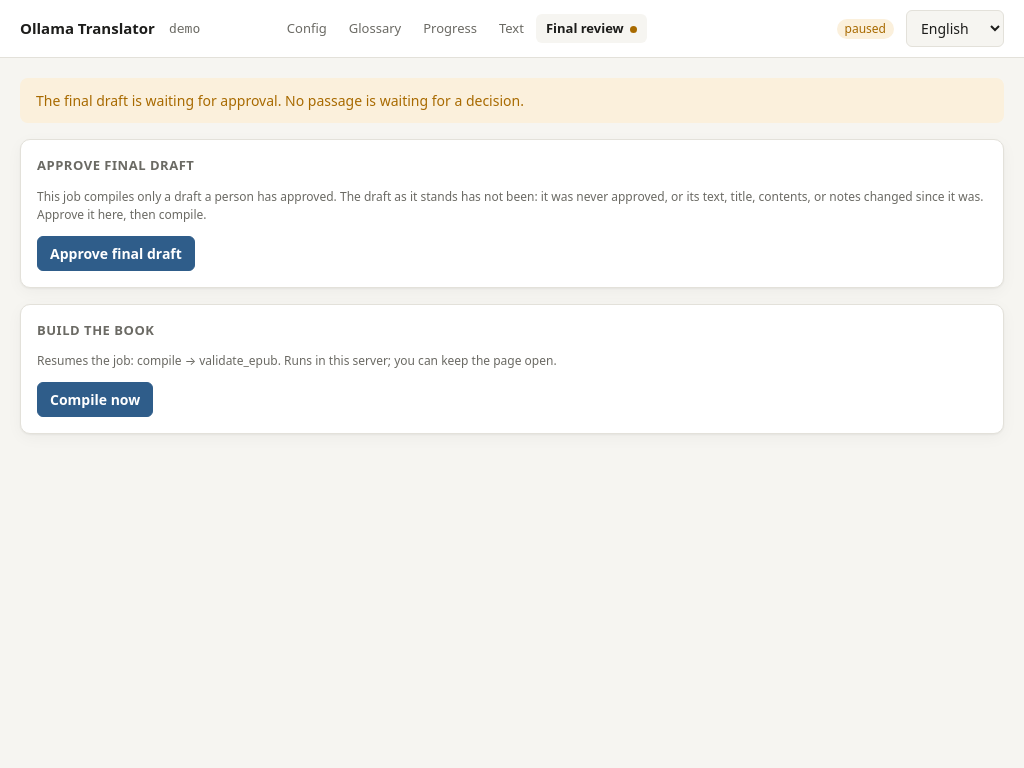
Scenario: Final review tab › when there is nothing to review › says why an approval was refused, and keeps the draft waiting
Click the button "Approve final draft" at (116, 253), box [37,236,195,270]
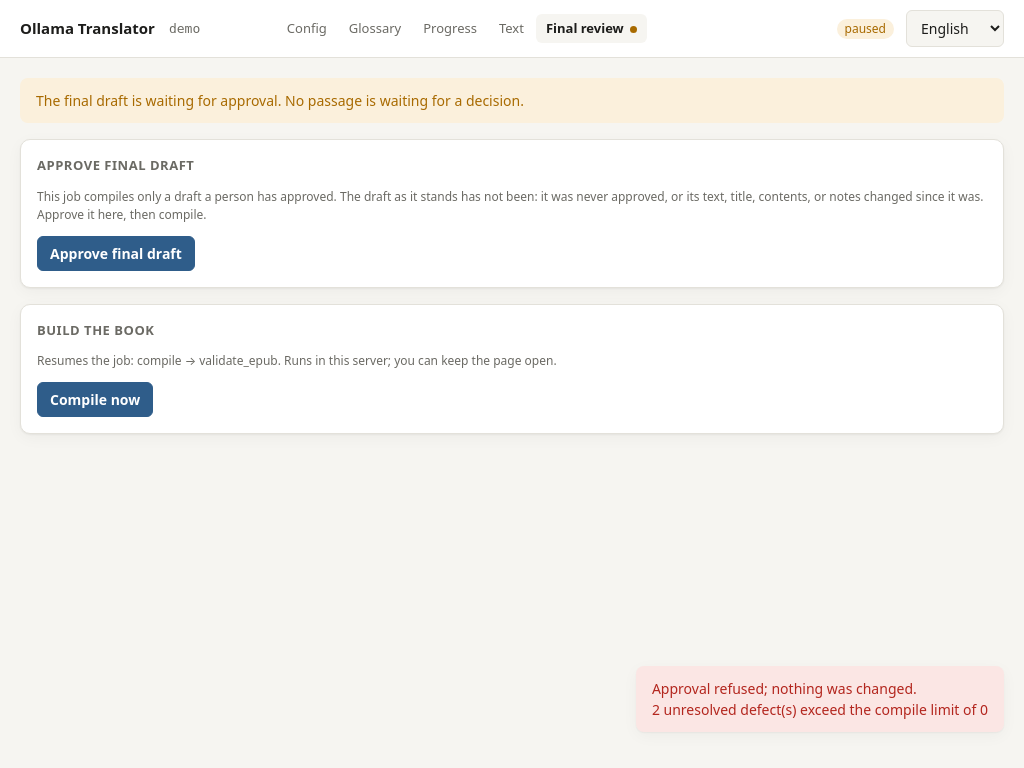
expect the text "Approval refused; nothing was changed." is shown: met, box [652,679,917,698]
expect the text "2 unresolved defect(s) exceed the compile limit of 0" is shown: met, box [652,700,988,719]
